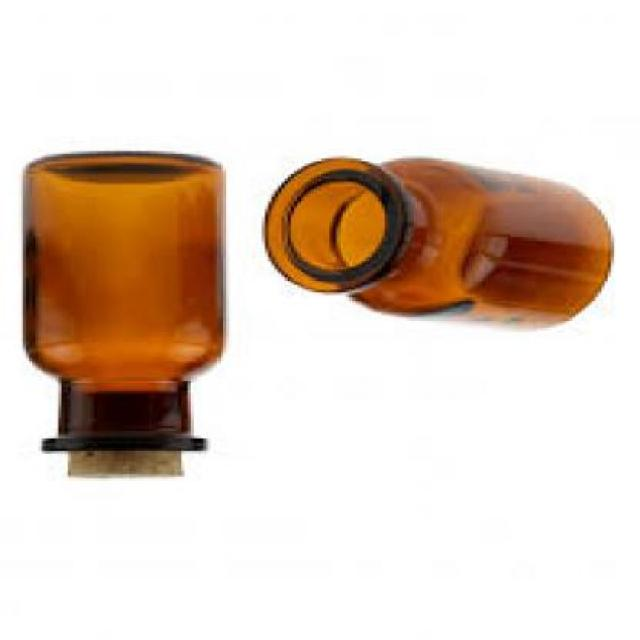GLASS: (26, 154, 229, 454), (268, 161, 618, 333)
